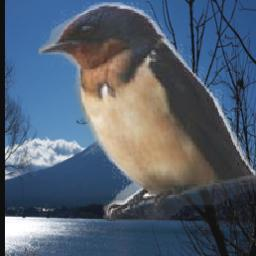Swallow: (39, 3, 256, 222)
